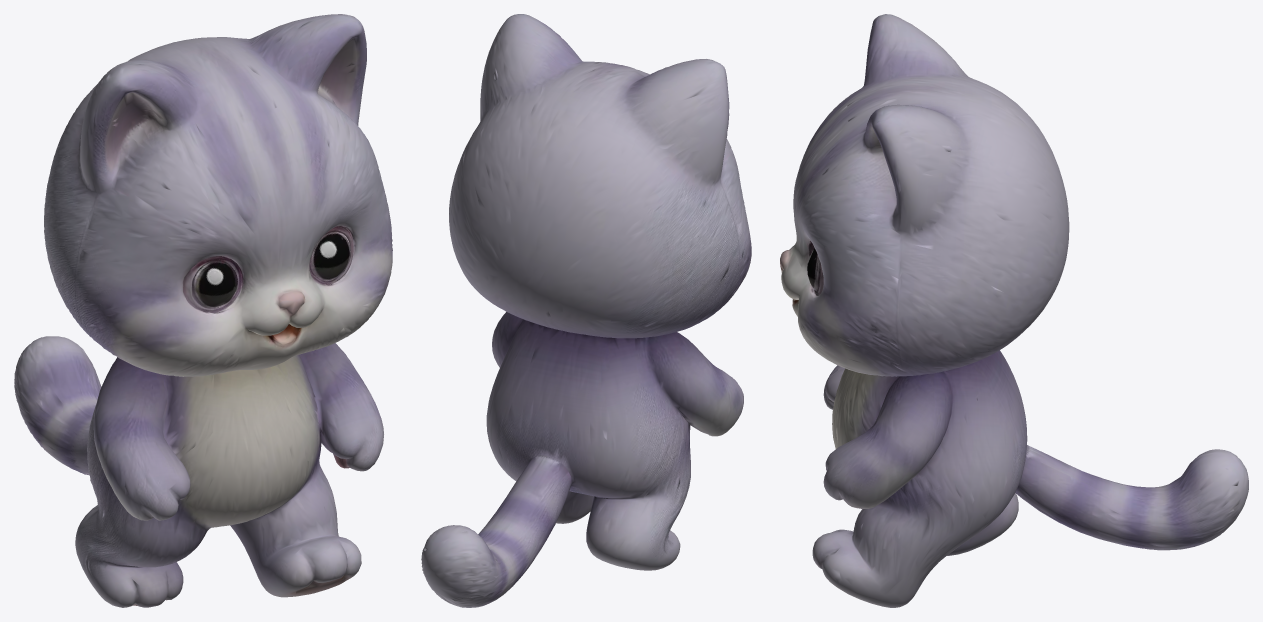
The model's file is cat_walk_3.glb.
The picture shows the model from 3 angles, left to right: view 1: azimuth 30°, elevation 25°; view 2: azimuth 150°, elevation 25°; view 3: azimuth 270°, elevation 25°; orthographic projection. The views are drawn at different scales.
Parts seen in each view (by area): view 1: node_0; view 2: node_0; view 3: node_0.
Part boxes in pixels (<box>): node_0: <box>14,14,392,607</box>; node_0: <box>421,14,751,607</box>; node_0: <box>780,14,1248,607</box>.
Size of the model in its own units: 0.5723 by 1.02 by 0.8443.
1 material, 1 textured.
